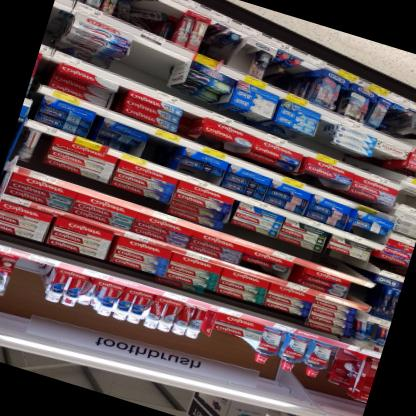empty_space: (121, 36, 191, 97), (275, 61, 320, 99), (141, 134, 184, 170), (41, 1, 72, 48), (4, 257, 36, 301), (23, 262, 53, 305), (308, 115, 339, 155)
